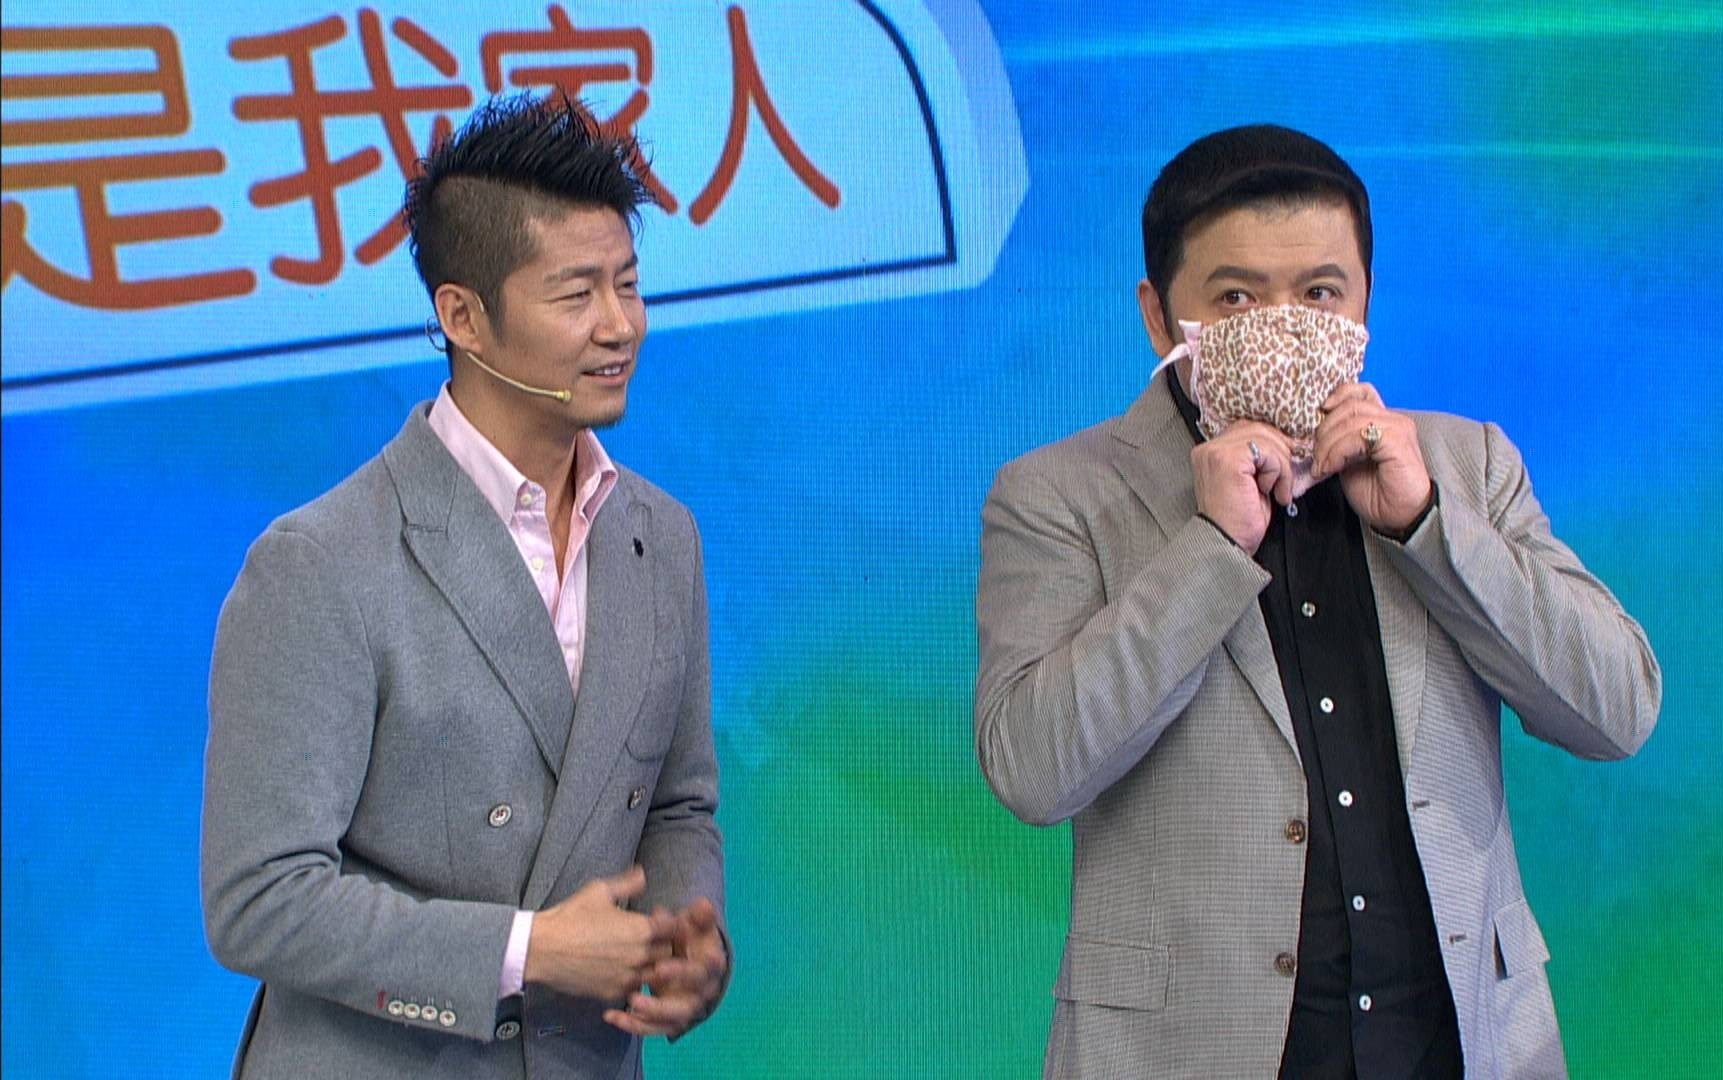face_mask: (1184, 208, 1369, 425), (469, 209, 654, 421)
